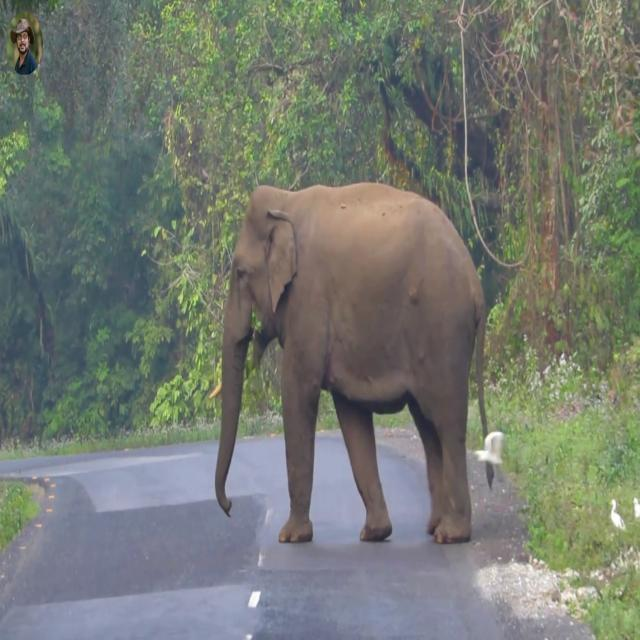Elephant: (209, 180, 500, 545)
